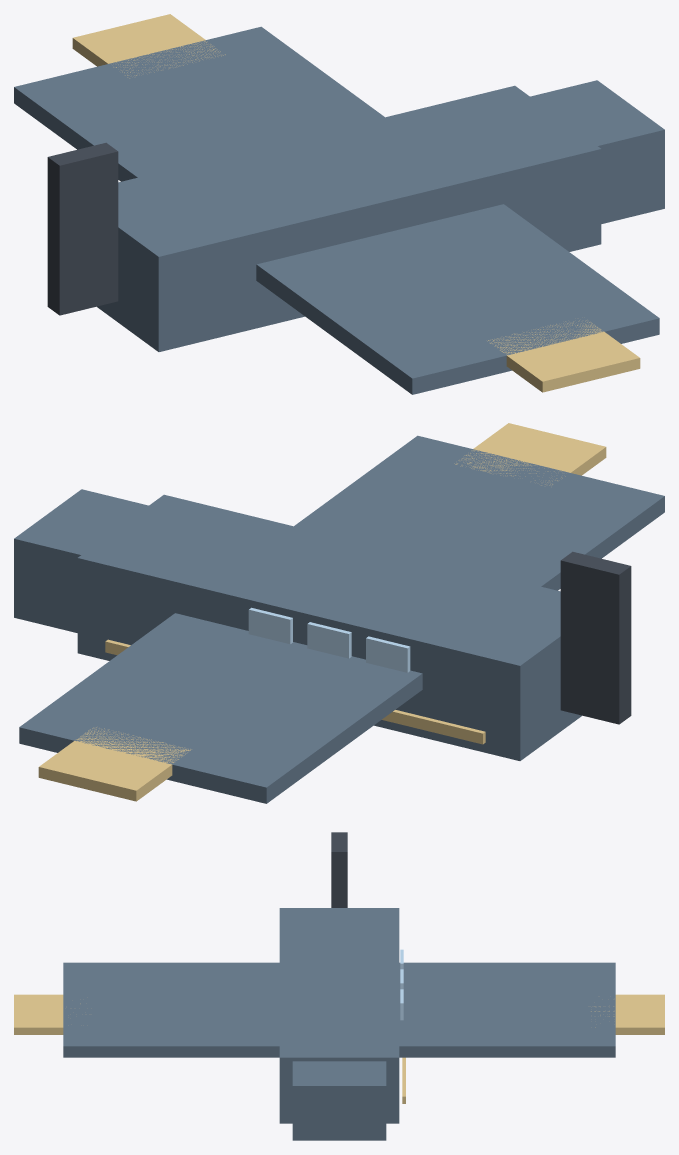
File: flying_drop_vehicle.glb
3 views of the same model, one above another, from view 1: azimuth 30°, elevation 25°; view 2: azimuth 150°, elevation 25°; view 3: azimuth 270°, elevation 25° (orthographic). The views are drawn at different scales.
Parts seen in each view (by area): view 1: flying_drop_vehicle_trimBlue, flying_drop_vehicle_dark, flying_drop_vehicle_gold; view 2: flying_drop_vehicle_trimBlue, flying_drop_vehicle_gold, flying_drop_vehicle_dark, flying_drop_vehicle_glass; view 3: flying_drop_vehicle_trimBlue, flying_drop_vehicle_gold, flying_drop_vehicle_dark.
Boxes of the visible parts, <box> form: flying_drop_vehicle_trimBlue: <box>14,26,664,394</box>; flying_drop_vehicle_dark: <box>47,142,118,315</box>; flying_drop_vehicle_gold: <box>72,14,640,392</box>; flying_drop_vehicle_trimBlue: <box>14,435,664,803</box>; flying_drop_vehicle_gold: <box>38,423,606,801</box>; flying_drop_vehicle_dark: <box>560,551,631,724</box>; flying_drop_vehicle_glass: <box>248,607,410,672</box>; flying_drop_vehicle_trimBlue: <box>63,908,615,1140</box>; flying_drop_vehicle_gold: <box>14,994,664,1103</box>; flying_drop_vehicle_dark: <box>331,832,347,907</box>.
Bounding box in the file's own units: 4.43 × 1.28 × 6.25.
